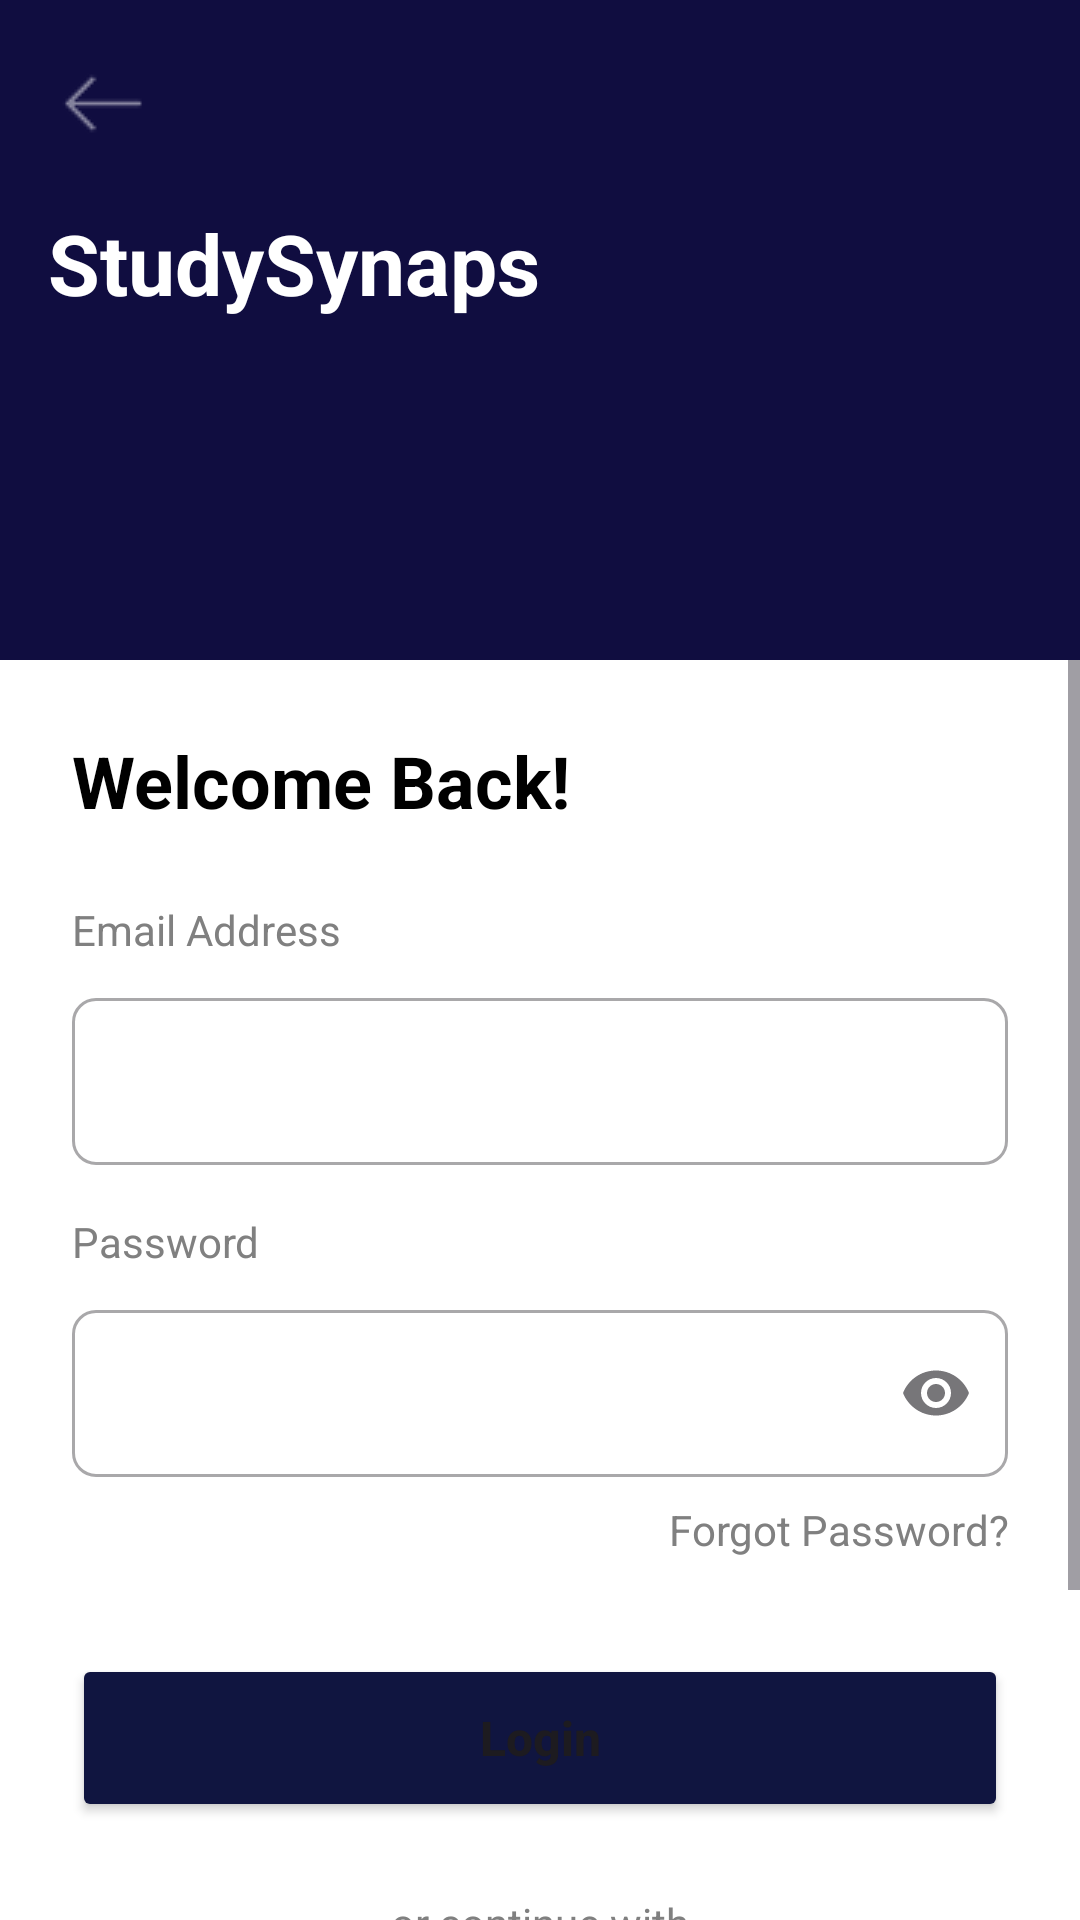

Named icons in this screenshot (1080 x 1920) and their centers, [x,y]:
arrow back: [103,104]
